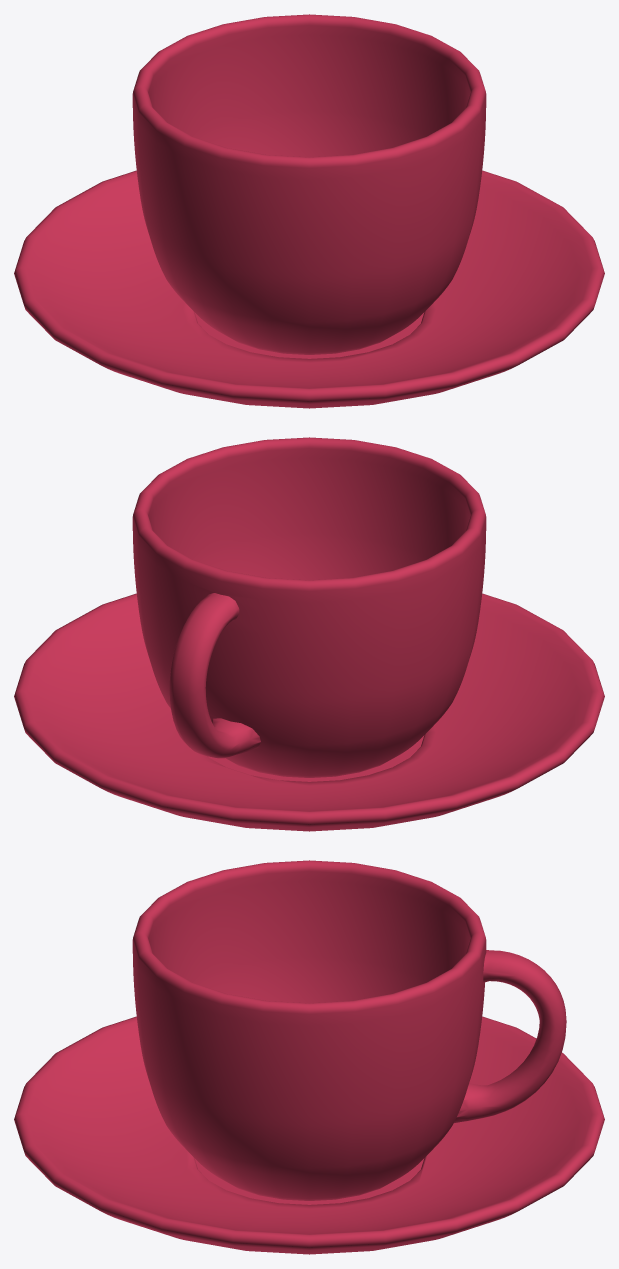
3 views of the same model, one above another, from view 1: azimuth 30°, elevation 25°; view 2: azimuth 150°, elevation 25°; view 3: azimuth 270°, elevation 25° (orthographic).
Visible parts, largest first — view 1: mesh5_mesh5-geometry, mesh1_mesh1-geometry; view 2: mesh5_mesh5-geometry, mesh1_mesh1-geometry; view 3: mesh5_mesh5-geometry, mesh1_mesh1-geometry.
Part boxes in pixels (x1,y1,x2,y2): mesh5_mesh5-geometry: (132,14,486,354); mesh1_mesh1-geometry: (14,170,604,408); mesh5_mesh5-geometry: (132,437,486,777); mesh1_mesh1-geometry: (14,593,604,831); mesh5_mesh5-geometry: (132,860,566,1200); mesh1_mesh1-geometry: (14,1016,604,1254).
Bounding box in the file's own units: 0.6713 × 0.3142 × 0.6713.
